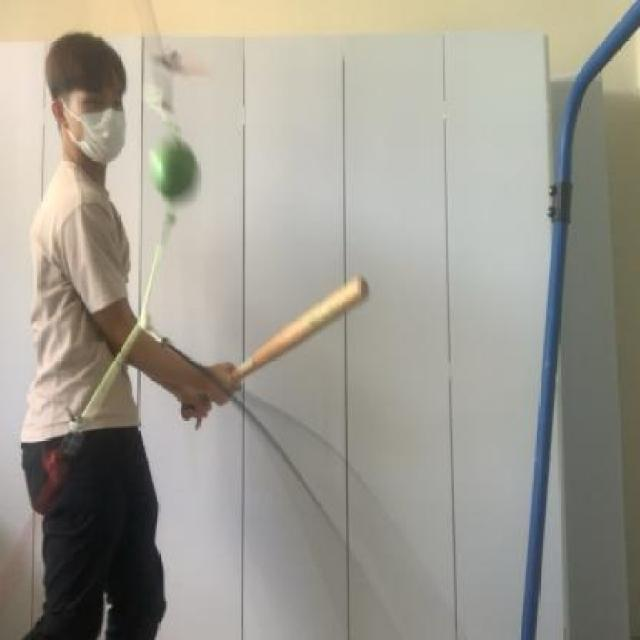baseball: (142, 124, 205, 204)
